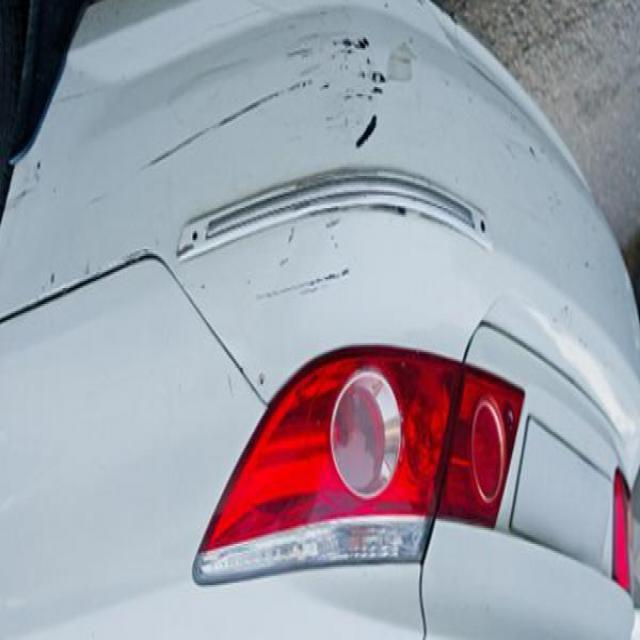scratch: (136, 72, 296, 179), (240, 250, 358, 326)
